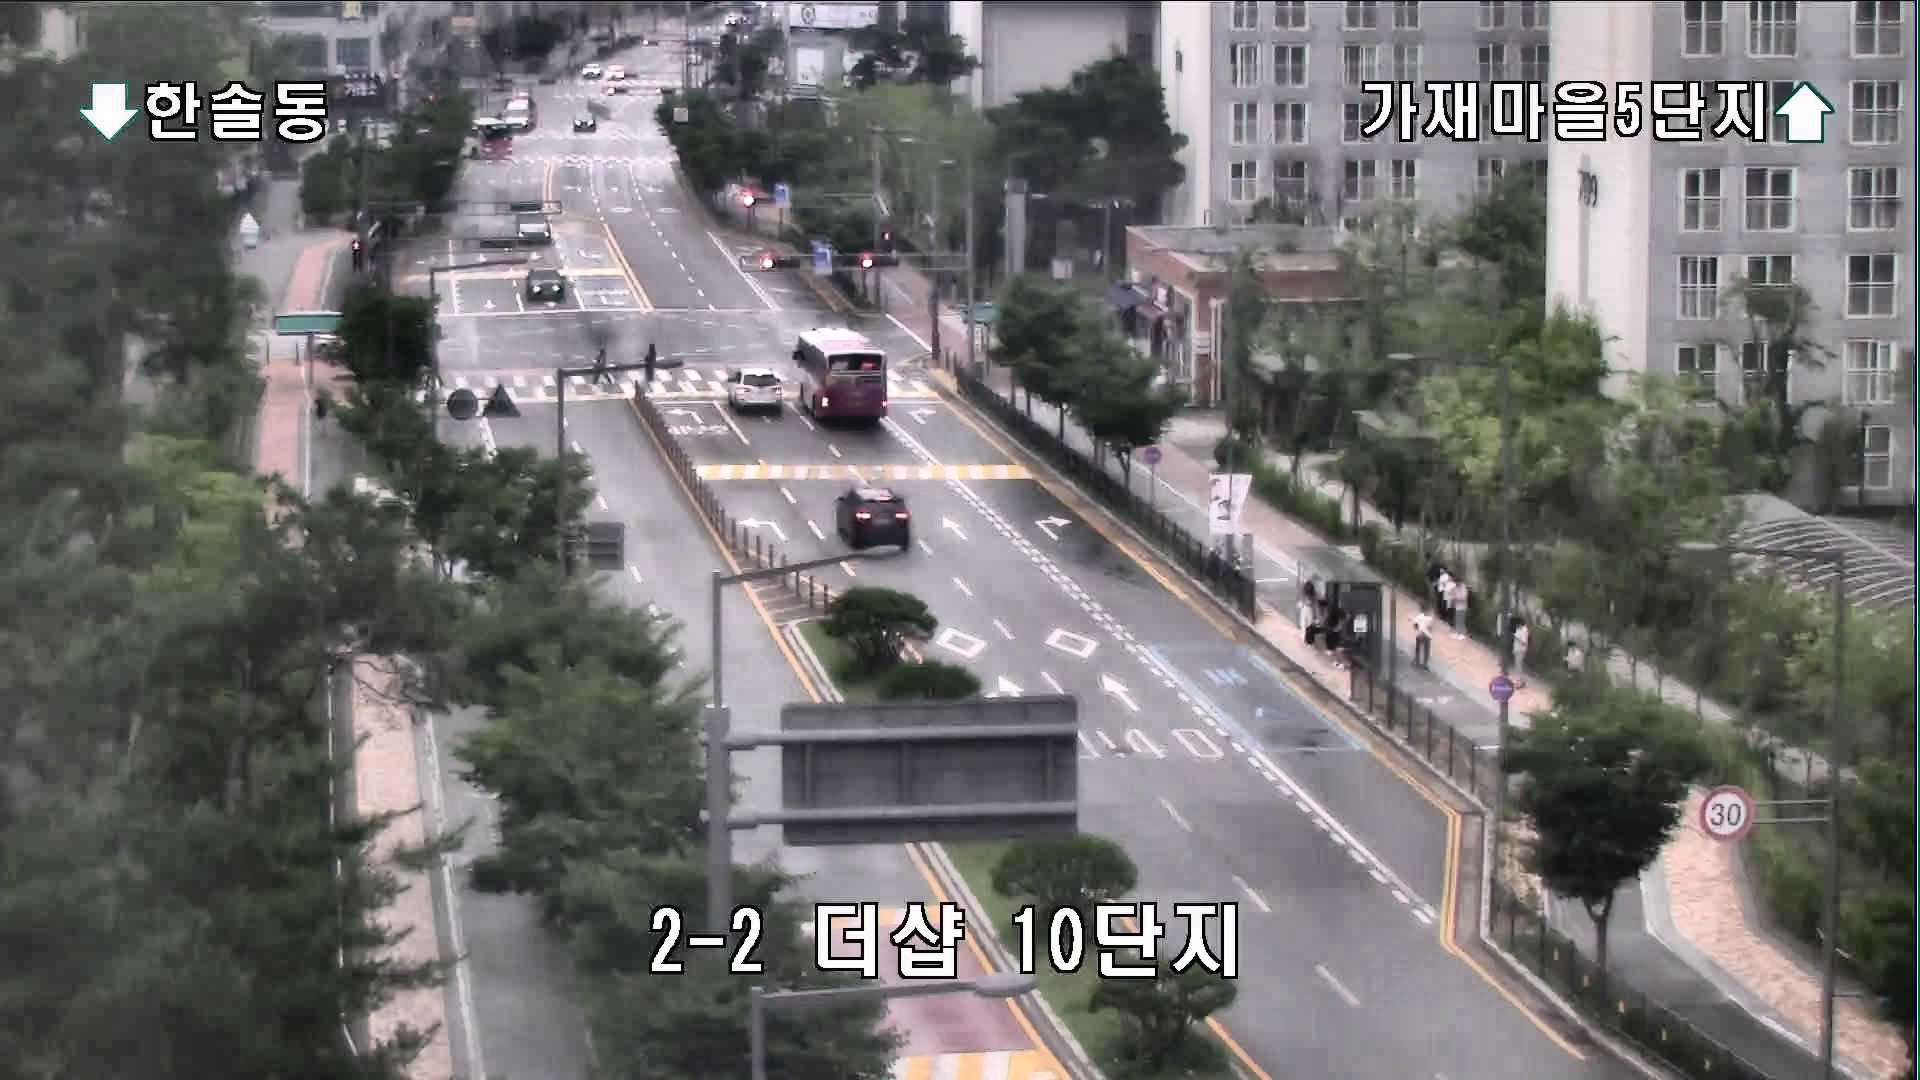crosswalk: (588, 348, 613, 388), (644, 343, 659, 385)
sidewalk: (1564, 640, 1589, 711), (1312, 596, 1340, 659), (1448, 574, 1472, 644), (1411, 603, 1433, 675), (1510, 616, 1528, 691), (1425, 553, 1443, 618), (1436, 563, 1453, 628), (1299, 582, 1317, 641), (311, 396, 328, 435)
